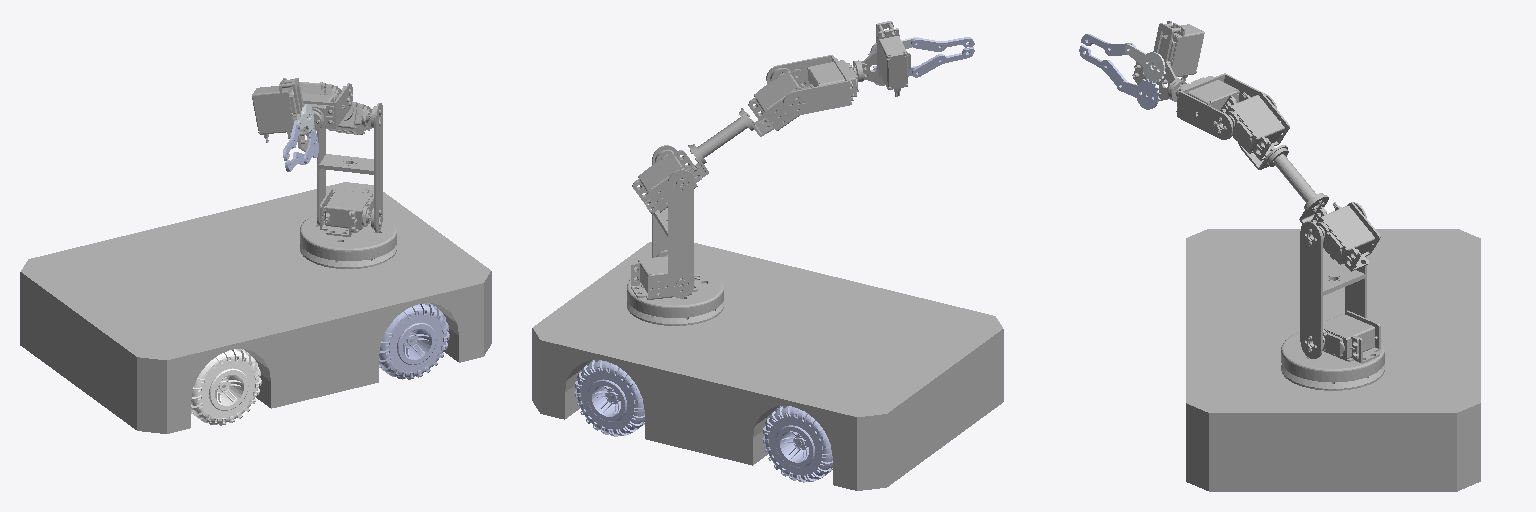
robot.urdf — car:
<?xml version="1.0" encoding="utf-8"?>
<!-- This URDF was automatically created by SolidWorks to URDF Exporter! Originally created by [author] ([email redacted]) 
     Commit Version: 1.6.0-1-g15f4949  Build Version: 1.6.7594.29634
     For more information, please see http://wiki.ros.org/sw_urdf_exporter -->
<robot
  name="car">
  <link
    name="base_link">
    <inertial>
      <origin
        xyz="-0.0984180141164289 -4.24653808969242E-05 -0.0479216367248507"
        rpy="0 0 0" />
      <mass
        value="6.12417699747623" />
      <inertia
        ixx="0.0300418227285899"
        ixy="-1.31898495040203E-10"
        ixz="0.000115309225809925"
        iyy="0.0748141060332957"
        iyz="-2.70309349390935E-07"
        izz="0.0990159080937532" />
    </inertial>
    <visual>
      <origin
        xyz="0 0 0"
        rpy="0 0 0" />
      <geometry>
        <mesh
          filename="package://car/meshes/base_link.STL" />
      </geometry>
      <material
        name="">
        <color
          rgba="0.752941176470588 0.752941176470588 0.752941176470588 1" />
      </material>
    </visual>
    <collision>
      <origin
        xyz="0 0 0"
        rpy="0 0 0" />
      <geometry>
        <mesh
          filename="package://car/meshes/base_link.STL" />
      </geometry>
    </collision>
  </link>
  <link
    name="link_1">
    <inertial>
      <origin
        xyz="0.00269150109526521 0.00643720654093697 0.0134014173539046"
        rpy="0 0 0" />
      <mass
        value="0.0798083224491903" />
      <inertia
        ixx="2.67162812954716E-05"
        ixy="-2.43210282464138E-06"
        ixz="3.12605441684161E-07"
        iyy="2.66369888305853E-05"
        iyz="-3.15010363972303E-07"
        izz="4.93317878172949E-05" />
    </inertial>
    <visual>
      <origin
        xyz="0 0 0"
        rpy="0 0 0" />
      <geometry>
        <mesh
          filename="package://car/meshes/link_1.STL" />
      </geometry>
      <material
        name="">
        <color
          rgba="0.752941176470588 0.752941176470588 0.752941176470588 1" />
      </material>
    </visual>
    <collision>
      <origin
        xyz="0 0 0"
        rpy="0 0 0" />
      <geometry>
        <mesh
          filename="package://car/meshes/link_1.STL" />
      </geometry>
    </collision>
  </link>
  <joint
    name="joint_0"
    type="revolute">
    <origin
      xyz="0 0 0"
      rpy="0 0 0" />
    <parent
      link="base_link" />
    <child
      link="link_1" />
    <axis
      xyz="0 0 1" />
    <limit
      lower="-1.42"
      upper="3.14"
      effort="0"
      velocity="0" />
  </joint>
  <link
    name="link_2">
    <inertial>
      <origin
        xyz="4.66857455472258E-16 -0.0509999999999999 0.00196123940376829"
        rpy="0 0 0" />
      <mass
        value="0.0475993853834784" />
      <inertia
        ixx="4.53034392400334E-05"
        ixy="4.39248438114813E-20"
        ixz="4.91279109407495E-20"
        iyy="2.93414623184682E-05"
        iyz="2.63109835750389E-20"
        izz="2.08816059621121E-05" />
    </inertial>
    <visual>
      <origin
        xyz="0 0 0"
        rpy="0 0 0" />
      <geometry>
        <mesh
          filename="package://car/meshes/link_2.STL" />
      </geometry>
      <material
        name="">
        <color
          rgba="0.752941176470588 0.752941176470588 0.752941176470588 1" />
      </material>
    </visual>
    <collision>
      <origin
        xyz="0 0 0"
        rpy="0 0 0" />
      <geometry>
        <mesh
          filename="package://car/meshes/link_2.STL" />
      </geometry>
    </collision>
  </link>
  <joint
    name="joint1"
    type="revolute">
    <origin
      xyz="0.00124058826901926 0.00124058826901925 0.0222"
      rpy="-1.5707963267949 0 -2.35619449019235" />
    <parent
      link="link_1" />
    <child
      link="link_2" />
    <axis
      xyz="0 0 1" />
    <limit
      lower="-1.57"
      upper="1.52"
      effort="0"
      velocity="0" />
  </joint>
  <link
    name="link_3">
    <inertial>
      <origin
        xyz="0.048654934891534 -0.0267541750207239 -0.00374536355010625"
        rpy="0 0 0" />
      <mass
        value="0.111344903565102" />
      <inertia
        ixx="1.48058334362821E-05"
        ixy="6.13521058640702E-06"
        ixz="-5.30481365743086E-07"
        iyy="2.07786943796875E-05"
        iyz="-6.77818543214601E-07"
        izz="2.27017654959212E-05" />
    </inertial>
    <visual>
      <origin
        xyz="0 0 0"
        rpy="0 0 0" />
      <geometry>
        <mesh
          filename="package://car/meshes/link_3.STL" />
      </geometry>
      <material
        name="">
        <color
          rgba="0.752941176470588 0.752941176470588 0.752941176470588 1" />
      </material>
    </visual>
    <collision>
      <origin
        xyz="0 0 0"
        rpy="0 0 0" />
      <geometry>
        <mesh
          filename="package://car/meshes/link_3.STL" />
      </geometry>
    </collision>
  </link>
  <joint
    name="joint_2"
    type="revolute">
    <origin
      xyz="0 -0.102 0"
      rpy="0 0 0" />
    <parent
      link="link_2" />
    <child
      link="link_3" />
    <axis
      xyz="0 0 1" />
    <limit
      lower="-1.38"
      upper="1.726"
      effort="0"
      velocity="0" />
  </joint>
  <link
    name="link_4">
    <inertial>
      <origin
        xyz="0.0312862928250999 0.0162844264935197 0.00196741396525555"
        rpy="0 0 0" />
      <mass
        value="0.0508687963957953" />
      <inertia
        ixx="2.06185098194461E-05"
        ixy="-2.35495810123568E-06"
        ixz="-3.50200079311361E-08"
        iyy="2.39090019104651E-05"
        iyz="-1.82228134622045E-08"
        izz="9.9109950707106E-06" />
    </inertial>
    <visual>
      <origin
        xyz="0 0 0"
        rpy="0 0 0" />
      <geometry>
        <mesh
          filename="package://car/meshes/link_4.STL" />
      </geometry>
      <material
        name="">
        <color
          rgba="0.752941176470588 0.752941176470588 0.752941176470588 1" />
      </material>
    </visual>
    <collision>
      <origin
        xyz="0 0 0"
        rpy="0 0 0" />
      <geometry>
        <mesh
          filename="package://car/meshes/link_4.STL" />
      </geometry>
    </collision>
  </link>
  <joint
    name="joint_3"
    type="revolute">
    <origin
      xyz="0.110641877280467 -0.0692166995578351 0"
      rpy="0.0330134851352876 0 -0.559025497866973" />
    <parent
      link="link_3" />
    <child
      link="link_4" />
    <axis
      xyz="0 0 1" />
    <limit
      lower="-0.977"
      upper="2.13"
      effort="0"
      velocity="0" />
  </joint>
  <link
    name="link_5">
    <inertial>
      <origin
        xyz="0.0200430658409259 0.015206821362248 -0.0628230629281958"
        rpy="0 0 0" />
      <mass
        value="0.0397478655309209" />
      <inertia
        ixx="6.83118920776812E-06"
        ixy="-8.25522508386529E-07"
        ixz="-1.11386372673254E-09"
        iyy="2.47605219937485E-06"
        iyz="-6.38856974010174E-09"
        izz="6.25600379880046E-06" />
    </inertial>
    <visual>
      <origin
        xyz="0 0 0"
        rpy="0 0 0" />
      <geometry>
        <mesh
          filename="package://car/meshes/link_5.STL" />
      </geometry>
      <material
        name="">
        <color
          rgba="0.752941176470588 0.752941176470588 0.752941176470588 1" />
      </material>
    </visual>
    <collision>
      <origin
        xyz="0 0 0"
        rpy="0 0 0" />
      <geometry>
        <mesh
          filename="package://car/meshes/link_5.STL" />
      </geometry>
    </collision>
  </link>
  <joint
    name="joint_4"
    type="revolute">
    <origin
      xyz="0.0263869262023886 0.0137314418971836 0.0112859927951107"
      rpy="2.66176793053187 1.5707963267949 0" />
    <parent
      link="link_4" />
    <child
      link="link_5" />
    <axis
      xyz="0 0 1" />
    <limit
      lower="-1.55"
      upper="1.55"
      effort="0"
      velocity="0" />
  </joint>
  <link
    name="link_6">
    <inertial>
      <origin
        xyz="-0.00019273 -0.0027587 0.00081377"
        rpy="0 0 0" />
      <mass
        value="0.0034196" />
      <inertia
        ixx="2.621E-07"
        ixy="-2.3036E-08"
        ixz="-1.7205E-22"
        iyy="1.014E-07"
        iyz="2.6139E-22"
        izz="3.5849E-07" />
    </inertial>
    <visual>
      <origin
        xyz="0 0 0"
        rpy="0 0 0" />
      <geometry>
        <mesh
          filename="package://car/meshes/link_6.STL" />
      </geometry>
      <material
        name="">
        <color
          rgba="0.89412 0.91373 0.92941 1" />
      </material>
    </visual>
    <collision>
      <origin
        xyz="0 0 0"
        rpy="0 0 0" />
      <geometry>
        <mesh
          filename="package://car/meshes/link_6.STL" />
      </geometry>
    </collision>
  </link>
  <joint
    name="joint_5"
    type="revolute">
    <origin
      xyz="-0.00125082871048847 0.0134873940524703 -0.0660040360555754"
      rpy="1.5707963267949 0 -1.74350141191543" />
    <parent
      link="link_5" />
    <child
      link="link_6" />
    <axis
      xyz="0 0 -1" />
    <limit
      lower="-0.01"
      upper="1.57"
      effort="0"
      velocity="0" />
  </joint>
  <link
    name="link_61">
    <inertial>
      <origin
        xyz="0.0065432 0.022668 0.0015"
        rpy="0 0 0" />
      <mass
        value="0.0014839" />
      <inertia
        ixx="4.324E-07"
        ixy="-7.8439E-08"
        ixz="-6.6174E-23"
        iyy="3.0753E-08"
        iyz="-5.6248E-22"
        izz="4.6093E-07" />
    </inertial>
    <visual>
      <origin
        xyz="0 0 0"
        rpy="0 0 0" />
      <geometry>
        <mesh
          filename="package://car/meshes/link_61.STL" />
      </geometry>
      <material
        name="">
        <color
          rgba="0.79216 0.81961 0.93333 1" />
      </material>
    </visual>
    <collision>
      <origin
        xyz="0 0 0"
        rpy="0 0 0" />
      <geometry>
        <mesh
          filename="package://car/meshes/link_61.STL" />
      </geometry>
    </collision>
  </link>
  <joint
    name="joint_51"
    type="revolute">
    <origin
      xyz="-0.0036089 -0.030839 0.00175"
      rpy="3.1416 0 0" />
    <parent
      link="link_6" />
    <child
      link="link_61" />
    <axis
      xyz="0 0 -1" />
    <limit
      lower="-0.01"
      upper="1.57"
      effort="0"
      velocity="0" />
    <mimic
      joint="joint_5"
      multiplier="1"
      offset="0" />
  </joint>
  <link
    name="link_62">
    <inertial>
      <origin
        xyz="0.00042559 0.0066665 -0.001"
        rpy="0 0 0" />
      <mass
        value="0.0014157" />
      <inertia
        ixx="2.1288E-07"
        ixy="-2.2306E-08"
        ixz="-5.3932E-22"
        iyy="4.9968E-08"
        iyz="-7.821E-22"
        izz="2.6191E-07" />
    </inertial>
    <visual>
      <origin
        xyz="0 0 0"
        rpy="0 0 0" />
      <geometry>
        <mesh
          filename="package://car/meshes/link_62.STL" />
      </geometry>
      <material
        name="">
        <color
          rgba="0.79216 0.81961 0.93333 1" />
      </material>
    </visual>
    <collision>
      <origin
        xyz="0 0 0"
        rpy="0 0 0" />
      <geometry>
        <mesh
          filename="package://car/meshes/link_62.STL" />
      </geometry>
    </collision>
  </link>
  <joint
    name="joint_52"
    type="revolute">
    <origin
      xyz="-0.007627 -0.012881 -0.066004"
      rpy="-1.5708 0 -1.7435" />
    <parent
      link="link_5" />
    <child
      link="link_62" />
    <axis
      xyz="0 0 -1" />
    <limit
      lower="-0.01"
      upper="1.57"
      effort="0"
      velocity="0" />
    <mimic
      joint="joint_5"
      multiplier="1"
      offset="0" />
  </joint>
  <link
    name="link_63">
    <inertial>
      <origin
        xyz="-0.006769 0.022602 0.0015"
        rpy="0 0 0" />
      <mass
        value="0.0014839" />
      <inertia
        ixx="4.308E-07"
        ixy="8.243E-08"
        ixz="-2.0514E-22"
        iyy="3.2358E-08"
        iyz="4.2641E-22"
        izz="4.6093E-07" />
    </inertial>
    <visual>
      <origin
        xyz="0 0 0"
        rpy="0 0 0" />
      <geometry>
        <mesh
          filename="package://car/meshes/link_63.STL" />
      </geometry>
      <material
        name="">
        <color
          rgba="0.79216 0.81961 0.93333 1" />
      </material>
    </visual>
    <collision>
      <origin
        xyz="0 0 0"
        rpy="0 0 0" />
      <geometry>
        <mesh
          filename="package://car/meshes/link_63.STL" />
      </geometry>
    </collision>
  </link>
  <joint
    name="joint_53"
    type="revolute">
    <origin
      xyz="0.003442 0.030858 0"
      rpy="0 0 0" />
    <parent
      link="link_62" />
    <child
      link="link_63" />
    <axis
      xyz="0 0 1" />
    <limit
      lower="-0.01"
      upper="1.57"
      effort="0"
      velocity="0" />
    <mimic
      joint="joint_5"
      multiplier="1"
      offset="0" />
  </joint>
  <link
    name="whfl">
    <inertial>
      <origin
        xyz="1.2467E-09 -5.4442E-09 -0.020213"
        rpy="0 0 0" />
      <mass
        value="0.072755" />
      <inertia
        ixx="4.1437E-05"
        ixy="2.2383E-13"
        ixz="-5.4568E-11"
        iyy="4.1437E-05"
        iyz="3.9178E-11"
        izz="6.0865E-05" />
    </inertial>
    <visual>
      <origin
        xyz="0 0 0"
        rpy="0 0 0" />
      <geometry>
        <mesh
          filename="package://car/meshes/whfl.STL" />
      </geometry>
      <material
        name="">
        <color
          rgba="0.79216 0.81961 0.93333 1" />
      </material>
    </visual>
    <collision>
      <origin
        xyz="0 0 0"
        rpy="0 0 0" />
      <geometry>
        <mesh
          filename="package://car/meshes/whfl.STL" />
      </geometry>
    </collision>
  </link>
  <joint
    name="fl"
    type="continuous">
    <origin
      xyz="0.0015 0.083487 -0.0592"
      rpy="1.5708 1.5708 0" />
    <parent
      link="base_link" />
    <child
      link="whfl" />
    <axis
      xyz="0 0 1" />
  </joint>
  <link
    name="whfr">
    <inertial>
      <origin
        xyz="1.24962969139109E-09 5.44436740785789E-09 0.0202134707653484"
        rpy="0 0 0" />
      <mass
        value="0.0727548969842859" />
      <inertia
        ixx="4.14370643491625E-05"
        ixy="-2.25286543002883E-13"
        ixz="5.45657502466087E-11"
        iyy="4.14370654220599E-05"
        iyz="3.91772712986478E-11"
        izz="6.08652668960254E-05" />
    </inertial>
    <visual>
      <origin
        xyz="0 0 0"
        rpy="0 0 0" />
      <geometry>
        <mesh
          filename="package://car/meshes/whfr.STL" />
      </geometry>
      <material
        name="">
        <color
          rgba="0.792156862745098 0.819607843137255 0.933333333333333 1" />
      </material>
    </visual>
    <collision>
      <origin
        xyz="0 0 0"
        rpy="0 0 0" />
      <geometry>
        <mesh
          filename="package://car/meshes/whfr.STL" />
      </geometry>
    </collision>
  </link>
  <joint
    name="fr"
    type="continuous">
    <origin
      xyz="0.0015 -0.083487 -0.0592"
      rpy="1.5708 1.5708 0" />
    <parent
      link="base_link" />
    <child
      link="whfr" />
    <axis
      xyz="0 0 1" />
  </joint>
  <link
    name="whbl">
    <inertial>
      <origin
        xyz="1.24650349764277E-09 -5.44134765023685E-09 -0.020213470764244"
        rpy="0 0 0" />
      <mass
        value="0.0727548969730556" />
      <inertia
        ixx="4.14370643512431E-05"
        ixy="2.24951970406938E-13"
        ixz="-5.45685294714399E-11"
        iyy="4.14370654186999E-05"
        iyz="3.91804314061101E-11"
        izz="6.08652668941202E-05" />
    </inertial>
    <visual>
      <origin
        xyz="0 0 0"
        rpy="0 0 0" />
      <geometry>
        <mesh
          filename="package://car/meshes/whbl.STL" />
      </geometry>
      <material
        name="">
        <color
          rgba="0.792156862745098 0.819607843137255 0.933333333333333 1" />
      </material>
    </visual>
    <collision>
      <origin
        xyz="0 0 0"
        rpy="0 0 0" />
      <geometry>
        <mesh
          filename="package://car/meshes/whbl.STL" />
      </geometry>
    </collision>
  </link>
  <joint
    name="bl"
    type="continuous">
    <origin
      xyz="-0.1985 0.083487 -0.0592"
      rpy="1.5708 1.5708 0" />
    <parent
      link="base_link" />
    <child
      link="whbl" />
    <axis
      xyz="0 0 1" />
  </joint>
  <link
    name="whbr">
    <inertial>
      <origin
        xyz="0 0 0"
        rpy="0 0 0" />
      <mass
        value="0" />
      <inertia
        ixx="0"
        ixy="0"
        ixz="0"
        iyy="0"
        iyz="0"
        izz="0" />
    </inertial>
    <visual>
      <origin
        xyz="0 0 0"
        rpy="0 0 0" />
      <geometry>
        <mesh
          filename="package://car/meshes/whbr.STL" />
      </geometry>
      <material
        name="">
        <color
          rgba="1 1 1 1" />
      </material>
    </visual>
    <collision>
      <origin
        xyz="0 0 0"
        rpy="0 0 0" />
      <geometry>
        <mesh
          filename="package://car/meshes/whbr.STL" />
      </geometry>
    </collision>
  </link>
  <joint
    name="br"
    type="continuous">
    <origin
      xyz="-0.198499999999999 -0.0834873571736593 -0.0592000000000001"
      rpy="1.57079632679489 1.5707963267949 0" />
    <parent
      link="base_link" />
    <child
      link="whbr" />
    <axis
      xyz="0 0 1" />
  </joint>
</robot>

--- Render facts (derived) ---
Views: 3 orthographic renders of the robot side by side, from view 1: azimuth 30°, elevation 25°; view 2: azimuth 150°, elevation 25°; view 3: azimuth 270°, elevation 25°.
Robot: car — 14 links, 13 joints (9 revolute, 4 continuous); root link base_link; default pose: all joints at 0.
Visible links, largest first — view 1: base_link, link_1, whfr, whbr, link_2, link_5, link_3, link_4; view 2: base_link, link_3, link_2, whbl, whfl, link_1, link_4, link_5, link_63, link_61; view 3: base_link, link_3, link_1, link_2, link_4, link_5, link_6, link_62, link_63.
Link boxes in pixels (x1,y1,x2,y2): base_link: [20, 182, 491, 433]; link_1: [300, 188, 396, 260]; whfr: [379, 303, 449, 379]; whbr: [191, 349, 261, 425]; link_2: [317, 103, 382, 232]; link_5: [252, 78, 322, 151]; link_3: [300, 82, 372, 134]; link_4: [290, 79, 352, 128]; base_link: [532, 242, 1003, 490]; link_3: [632, 69, 813, 213]; link_2: [652, 145, 693, 297]; whbl: [762, 406, 832, 482]; whfl: [574, 360, 644, 436]; link_1: [627, 255, 723, 317]; link_4: [766, 55, 858, 115]; link_5: [853, 21, 910, 96]; link_63: [912, 47, 974, 77]; link_61: [911, 37, 974, 51]; base_link: [1186, 229, 1480, 491]; link_3: [1220, 92, 1380, 271]; link_1: [1281, 310, 1384, 381]; link_2: [1300, 202, 1366, 358]; link_4: [1176, 73, 1276, 139]; link_5: [1132, 21, 1204, 101]; link_6: [1125, 44, 1165, 82]; link_62: [1117, 79, 1160, 109]; link_63: [1079, 45, 1126, 86].
Size in the robot's own frame: 0.377 by 0.3469 by 0.3481 metres.
14 mesh visuals loaded from 14 distinct referenced files (14 binary STL).